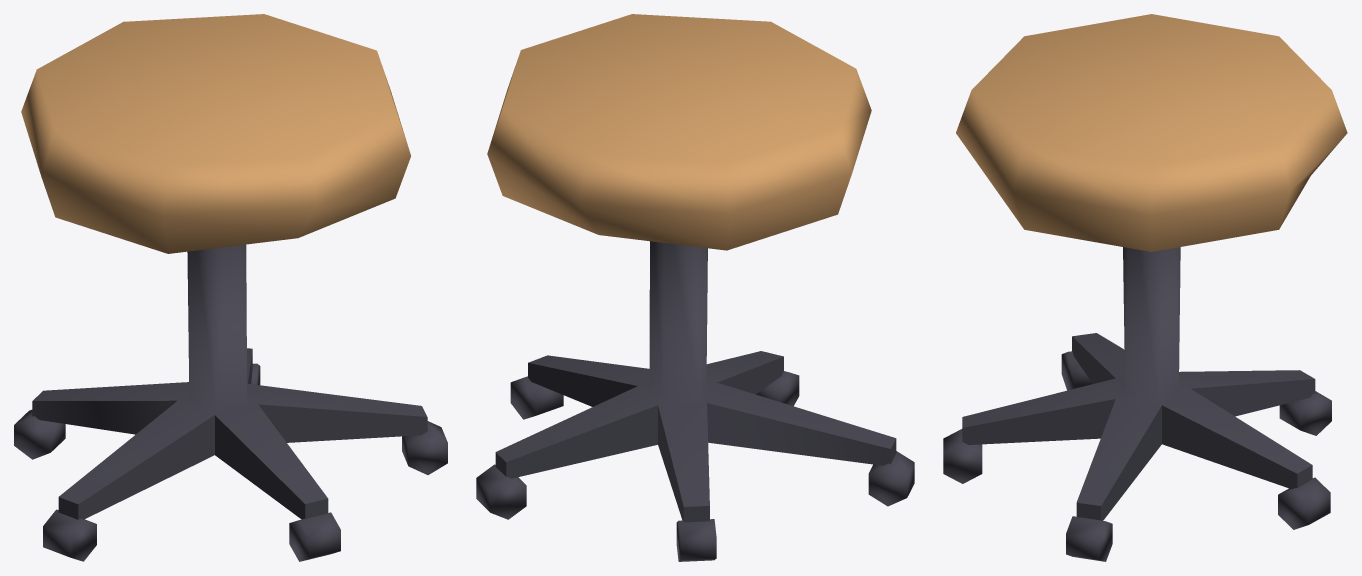
Rendered from Lab_Stool.glb.
3 renders of one model, left to right at view 1: azimuth 30°, elevation 25°; view 2: azimuth 150°, elevation 25°; view 3: azimuth 270°, elevation 25°, orthographic. The views are drawn at different scales.
Parts seen in each view (by area): view 1: Cylinder.001; view 2: Cylinder.001; view 3: Cylinder.001.
Boxes of the visible parts, <box> form: Cylinder.001: <box>14,14,447,561</box>; Cylinder.001: <box>476,14,914,561</box>; Cylinder.001: <box>943,14,1347,561</box>.
Size of the model in its own units: 0.6434 by 0.6103 by 0.5799.
